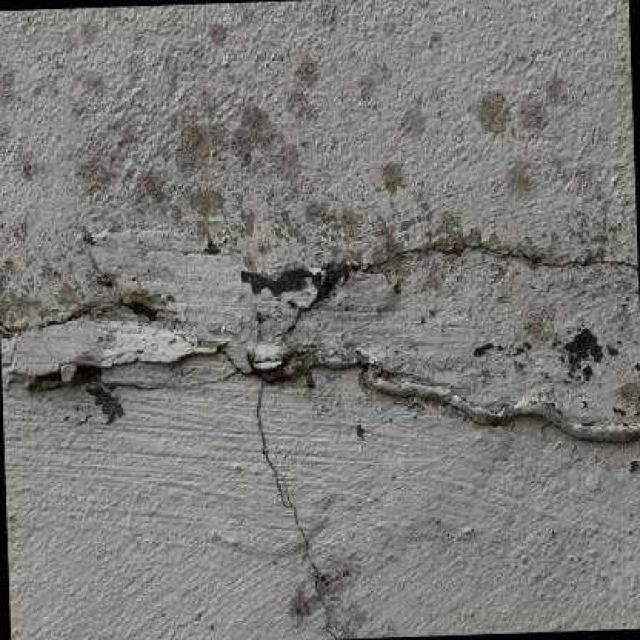D00: (226, 353, 342, 640), (372, 237, 635, 273)
